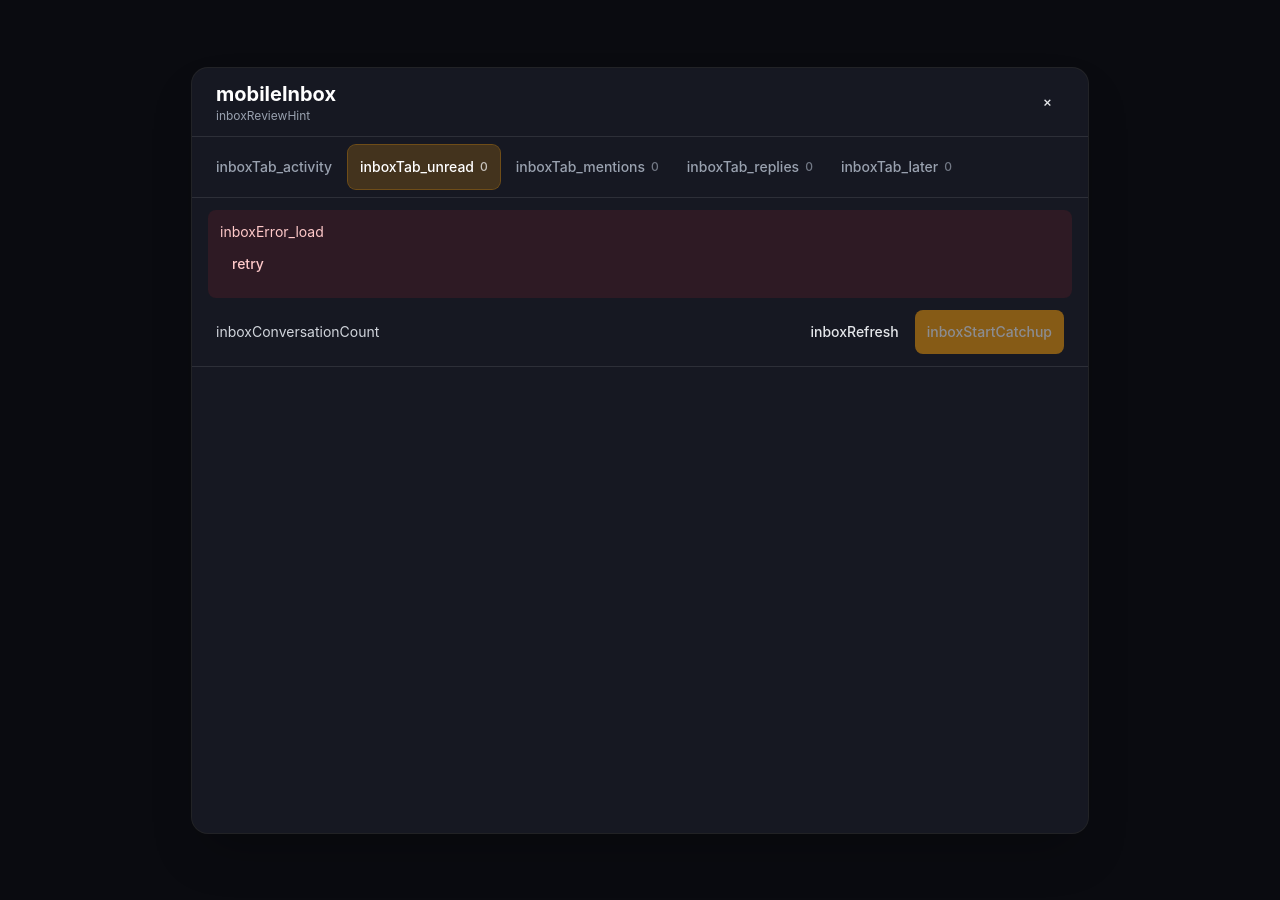
Test: shows errors instead of an empty-success message and retries
The image size is (1280, 900).
Check: the message shows "inboxError_load", box [220,222,324,240]
Click the button "retry" at x=248, y=264, box [220,242,276,286]
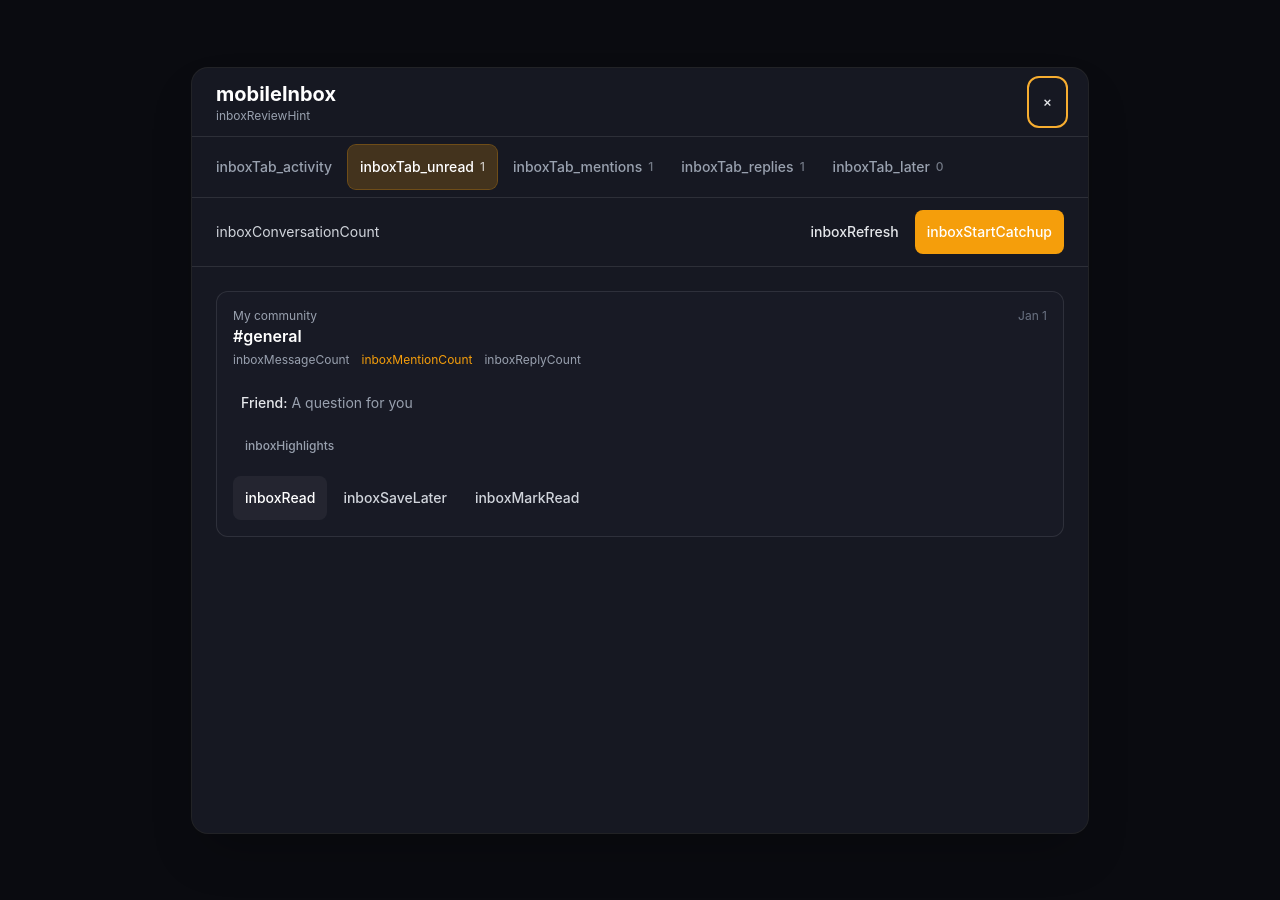
Check: the heading "#general" is shown, box [233,326,302,346]
